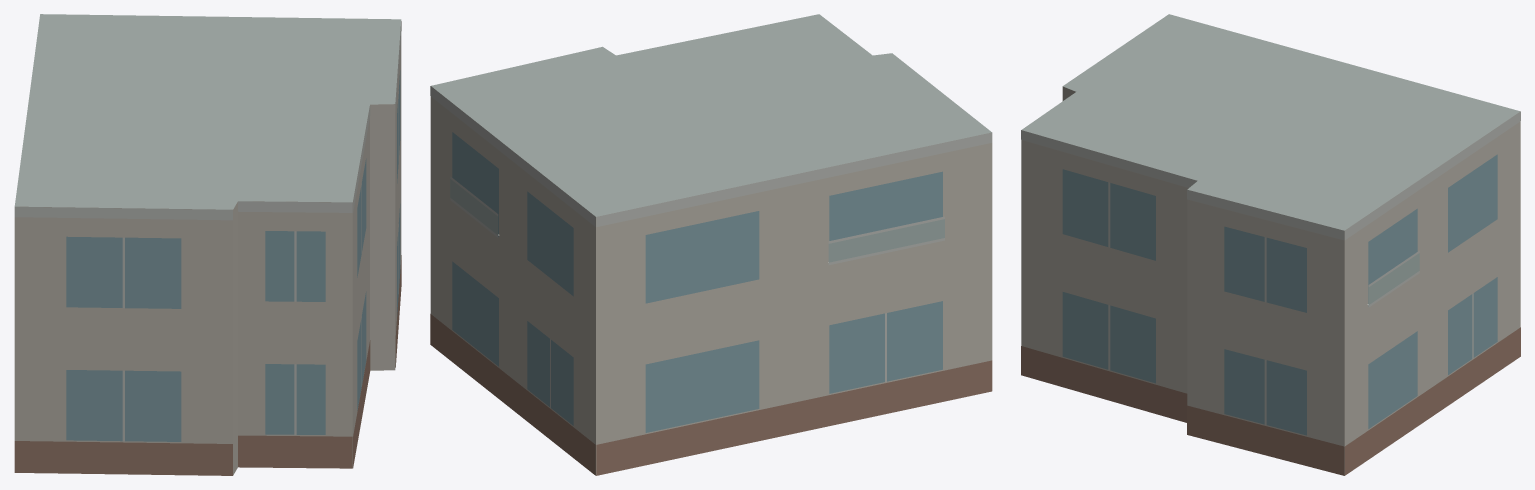
The model's file is survey-upis-32653301.glb.
3 renders of one model, left to right at view 1: azimuth 30°, elevation 25°; view 2: azimuth 150°, elevation 25°; view 3: azimuth 270°, elevation 25°, orthographic. The views are drawn at different scales.
Parts seen in each view (by area): view 1: survey-upis-32653301.tmp; view 2: survey-upis-32653301.tmp; view 3: survey-upis-32653301.tmp.
Boxes of the visible parts, x1,y1,x2,y2 form: survey-upis-32653301.tmp: [14, 14, 401, 475]; survey-upis-32653301.tmp: [430, 14, 992, 475]; survey-upis-32653301.tmp: [1021, 14, 1520, 475].
Size of the model in its own units: 11.57 by 6.1 by 11.27.
